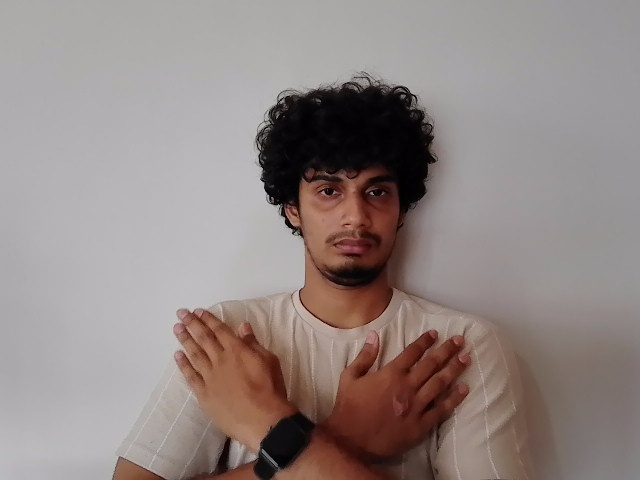relaxing: (172, 306, 477, 456)
